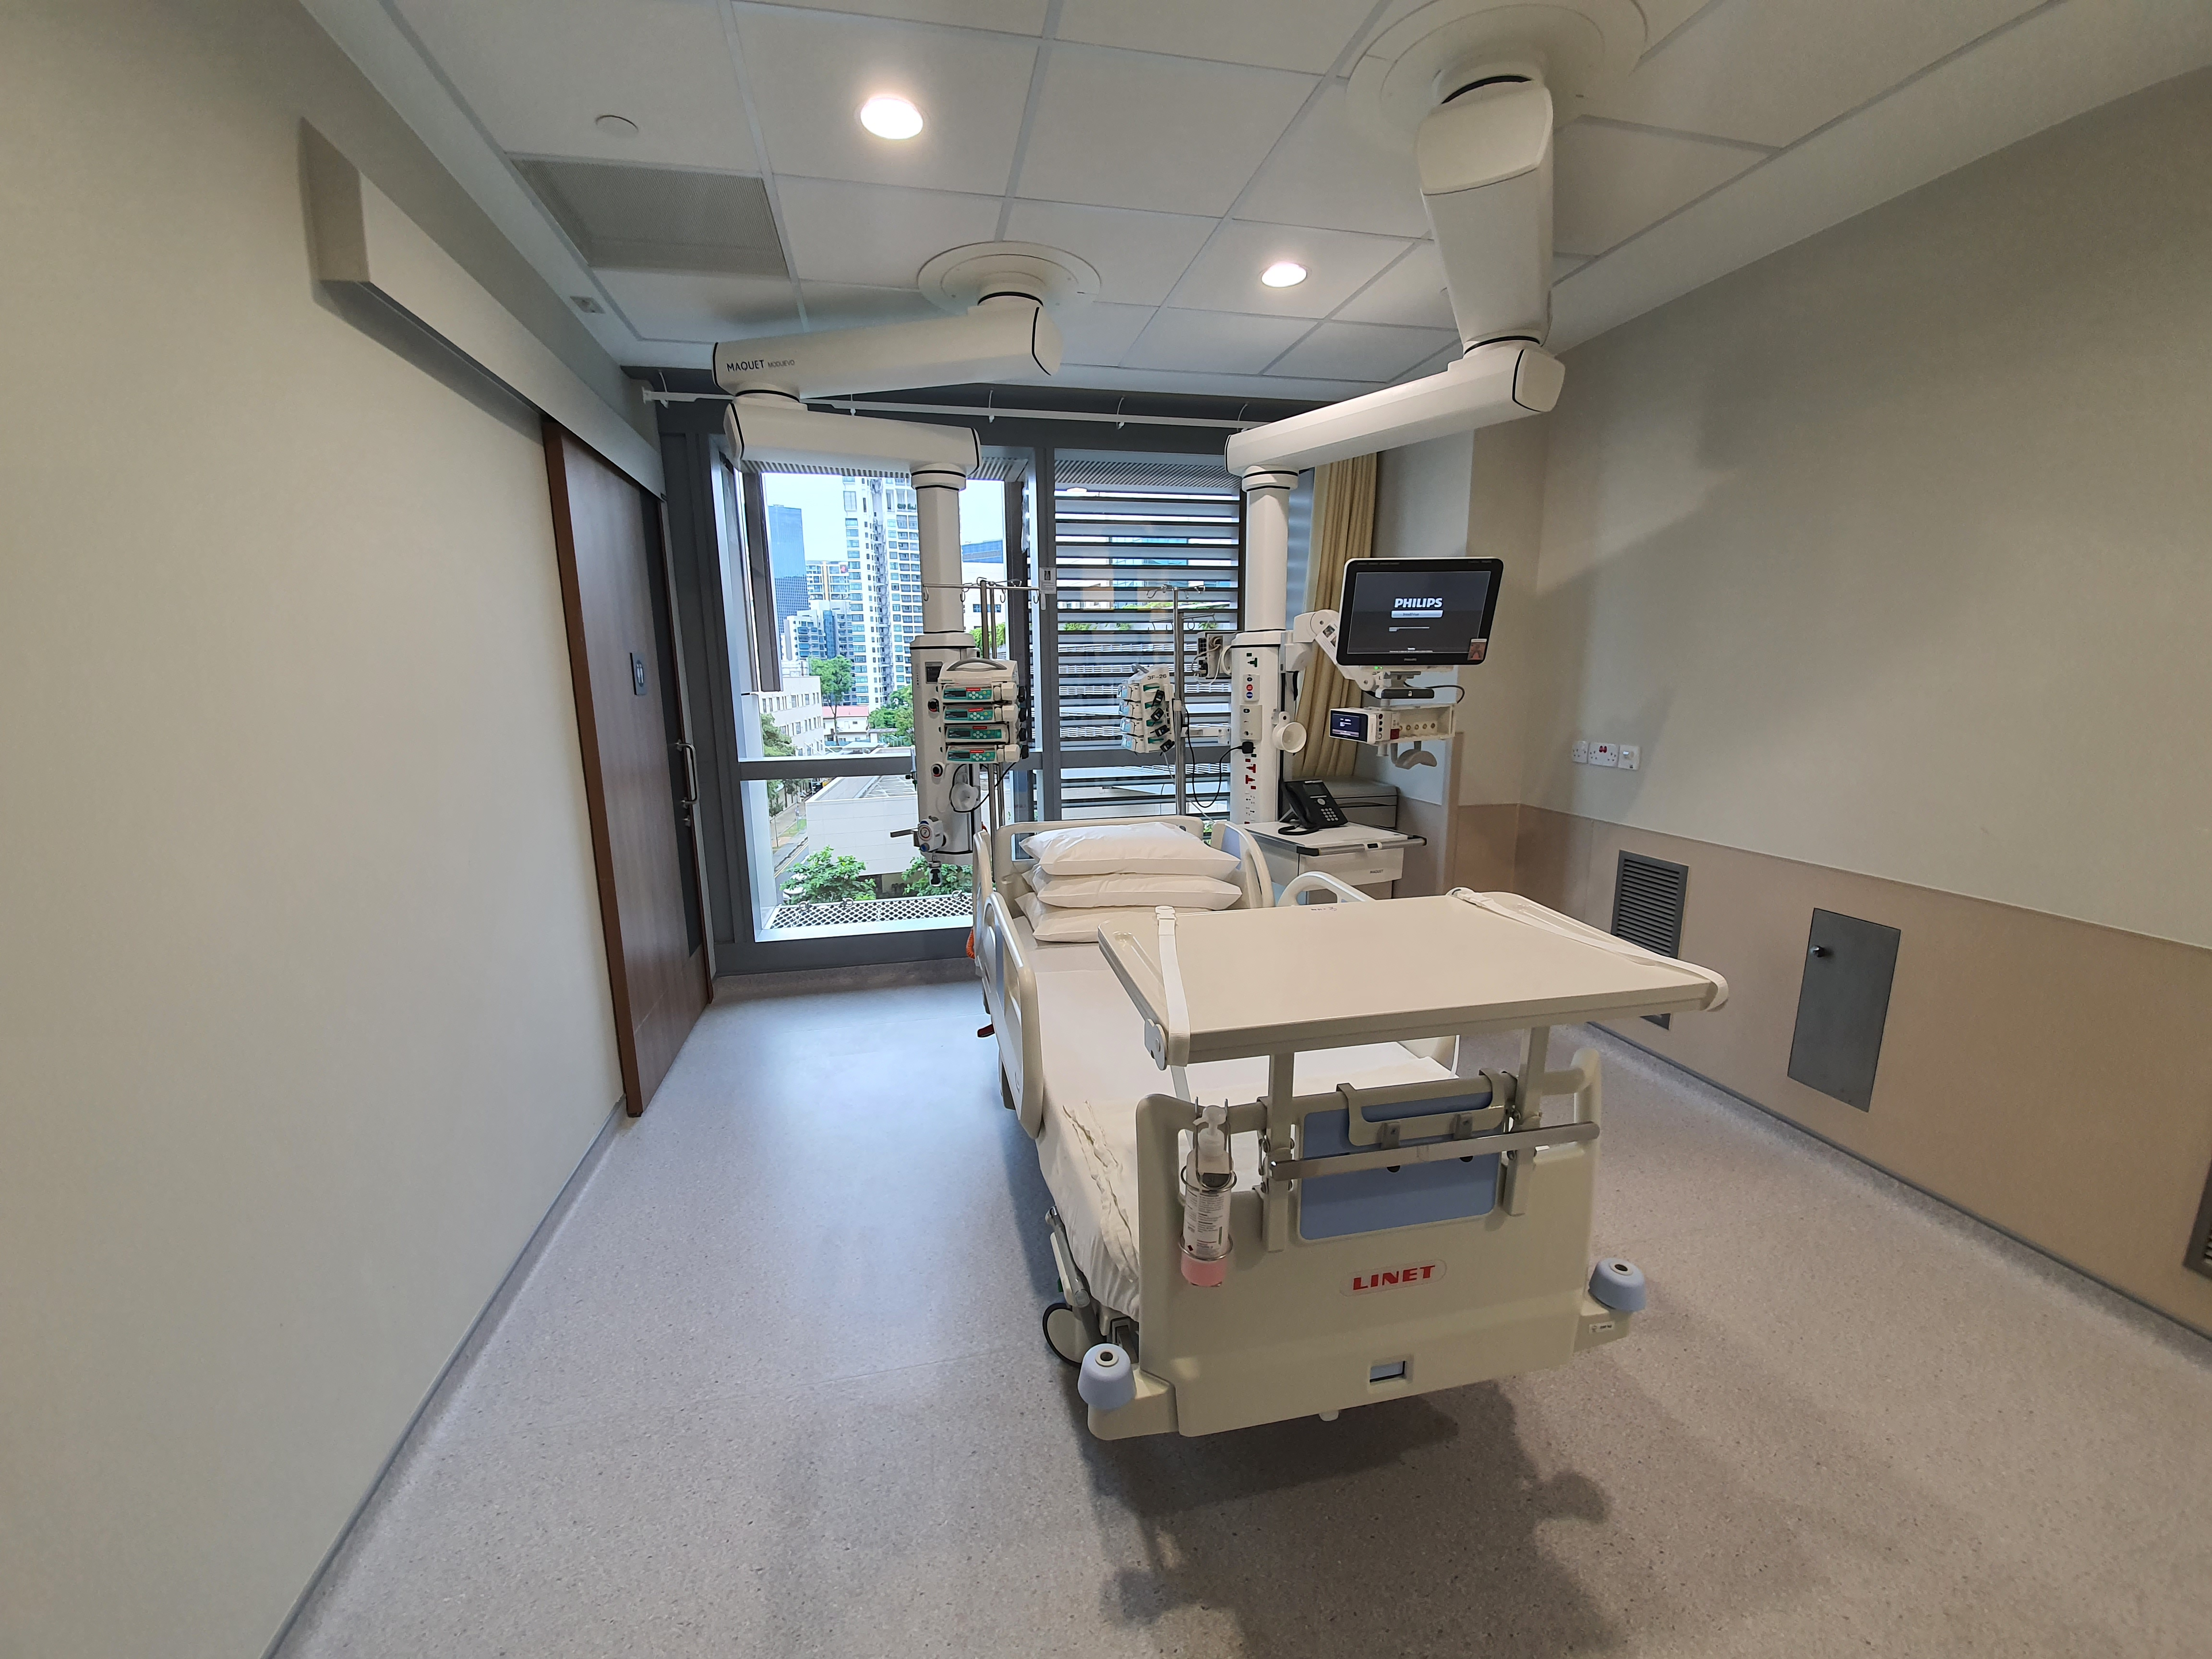bedrail: (1273, 873, 1461, 1072), (974, 892, 1043, 1140), (1211, 823, 1273, 908)
bedside_monitor: (1334, 556, 1505, 667)
bedside_table: (1237, 821, 1426, 906)
curtain: (1282, 453, 1381, 779)
door_handle: (676, 739, 700, 809)
foot_board: (1076, 1044, 1646, 1441)
hospital_bed: (965, 814, 1648, 1439)
iv_pole: (927, 577, 1042, 885), (1146, 584, 1205, 816)
overbed_table: (1096, 885, 1730, 1072)
syringe_pump: (937, 657, 1021, 706), (937, 735, 1019, 765), (937, 718, 1019, 748), (937, 702, 1019, 732), (1113, 735, 1176, 756), (1113, 716, 1176, 737), (1113, 702, 1176, 723), (1115, 683, 1177, 704)
telephone: (1278, 779, 1348, 835)
